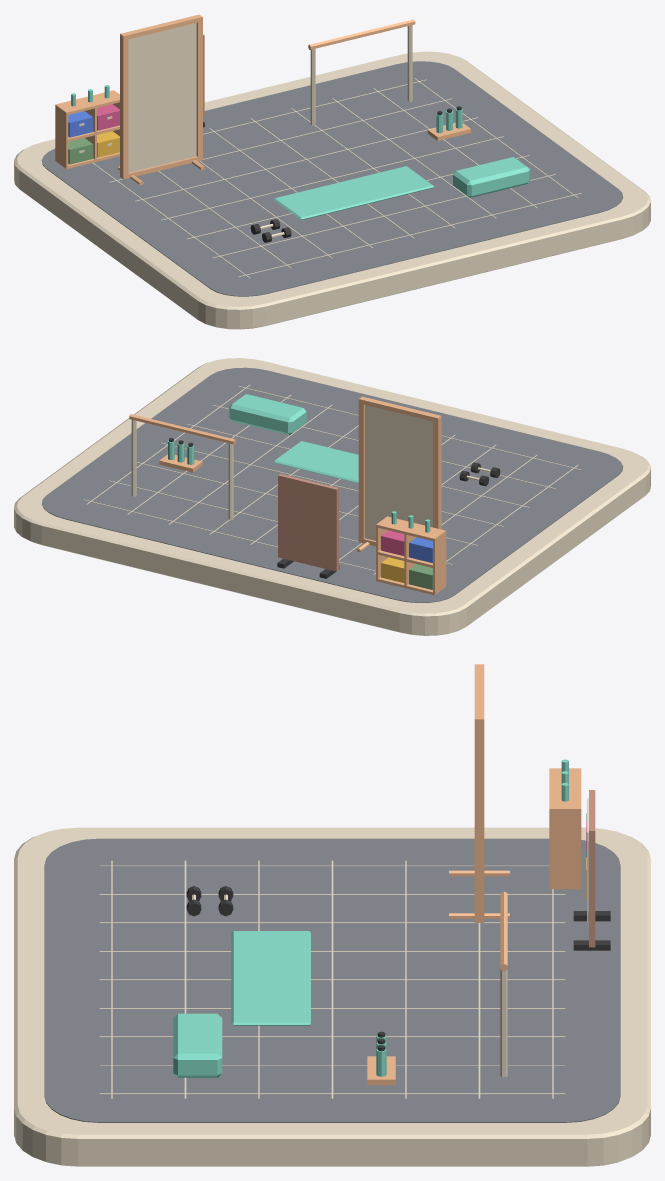
The model's file is room.fbx.
The picture shows the model from 3 angles, top to bottom: view 1: azimuth 30°, elevation 25°; view 2: azimuth 150°, elevation 25°; view 3: azimuth 270°, elevation 25°; orthographic projection. The views are drawn at different scales.
Parts seen in each view (by area): view 1: COM-02 Floor Surface, COM-01 Rounded Base Direct, Mirror face, Exercise mat, Step, Frame, Frame.001, Cubbies divider, Cubbies shelf.002, Frame.003, Bar, Storage bin (+7 smaller); view 2: COM-02 Floor Surface, COM-01 Rounded Base Direct, Mirror face, Panel, Step, Exercise mat, Frame, Frame.001, Cubbies divider, Cubbies shelf.002, Bar, Frame.003 (+7 smaller); view 3: COM-02 Floor Surface, COM-01 Rounded Base Direct, Exercise mat, Step, Cubbies divider.002, Frame.001, Cubbies shelf.002, Panel, Grout X.008, Grout X.002, Grout X, Post.001 (+3 smaller).
Boxes of the visible parts, bbox=[...] form: COM-02 Floor Surface: bbox=[41, 61, 623, 296]; COM-01 Rounded Base Direct: bbox=[14, 51, 650, 329]; Mirror face: bbox=[128, 23, 196, 172]; Exercise mat: bbox=[274, 166, 434, 219]; Step: bbox=[453, 157, 530, 197]; Frame: bbox=[120, 35, 128, 177]; Frame.001: bbox=[196, 21, 202, 159]; Cubbies divider: bbox=[55, 105, 68, 168]; Cubbies shelf.002: bbox=[55, 90, 119, 114]; Frame.003: bbox=[120, 14, 202, 39]; Bar: bbox=[308, 19, 415, 49]; Storage bin: bbox=[68, 138, 93, 164]; COM-02 Floor Surface: bbox=[42, 367, 623, 602]; COM-01 Rounded Base Direct: bbox=[14, 358, 650, 635]; Mirror face: bbox=[365, 405, 432, 540]; Panel: bbox=[278, 473, 338, 571]; Step: bbox=[229, 394, 306, 434]; Exercise mat: bbox=[274, 441, 358, 483]; Frame: bbox=[433, 417, 441, 529]; Frame.001: bbox=[358, 400, 364, 541]; Cubbies divider: bbox=[433, 531, 446, 595]; Cubbies shelf.002: bbox=[376, 516, 445, 540]; Bar: bbox=[129, 414, 236, 444]; Frame.003: bbox=[358, 396, 441, 422]; COM-02 Floor Surface: bbox=[44, 838, 620, 1122]; COM-01 Rounded Base Direct: bbox=[14, 827, 650, 1166]; Exercise mat: bbox=[231, 931, 310, 1025]; Step: bbox=[173, 1013, 222, 1077]; Cubbies divider.002: bbox=[549, 809, 581, 889]; Frame.001: bbox=[474, 721, 484, 921]; Cubbies shelf.002: bbox=[549, 768, 581, 809]; Panel: bbox=[589, 790, 595, 947]; Grout X.008: bbox=[99, 1093, 565, 1094]; Grout X.002: bbox=[99, 922, 565, 923]; Grout X: bbox=[100, 865, 548, 866]; Post.001: bbox=[500, 970, 507, 1077].
Size of the model in its own units: 600 by 215 by 520.
